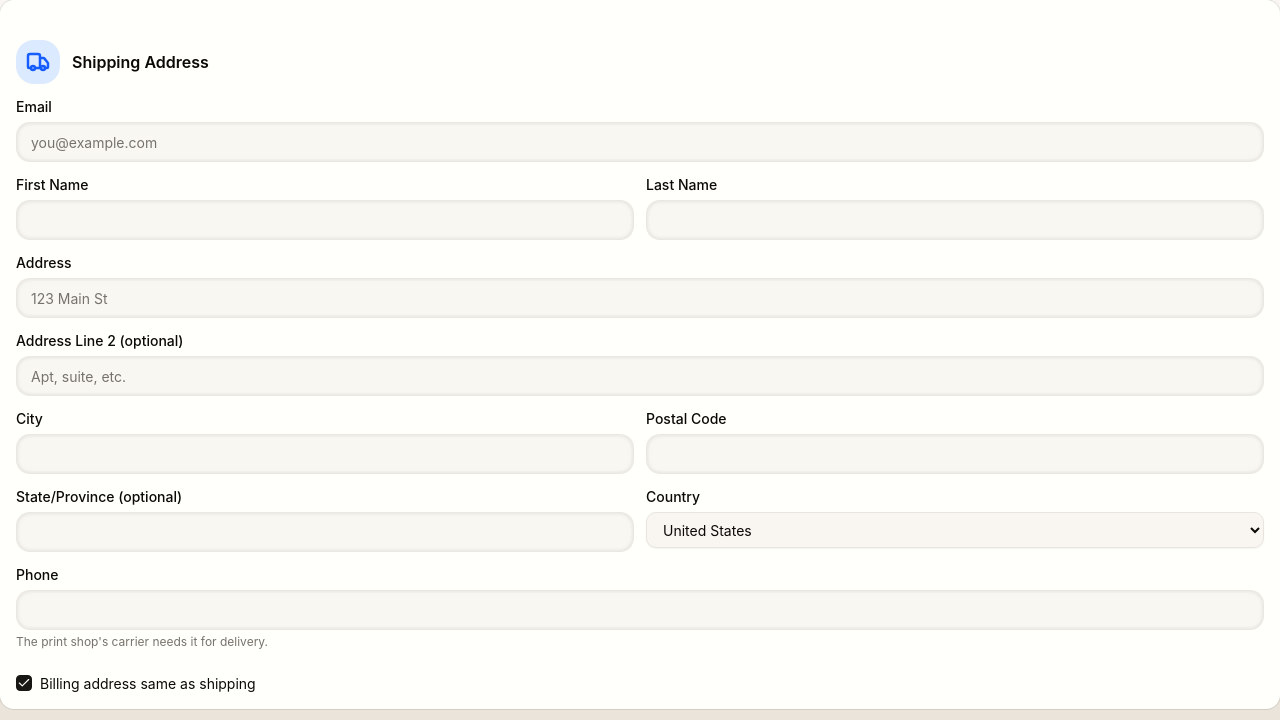
ShippingAddressForm — clipboard OTP fill › auto-fills and submits when the clipboard already holds a 6-digit code
The image size is (1280, 720).
Step 1. Type "ada@example.com" into the field labelled "Email" → (640, 142), box [16, 122, 1264, 162]
Step 2. Type "Ada" into the field labelled "First Name" → (325, 220), box [16, 200, 634, 240]
Step 3. Type "Lovelace" into the field labelled "Last Name" → (955, 220), box [646, 200, 1264, 240]
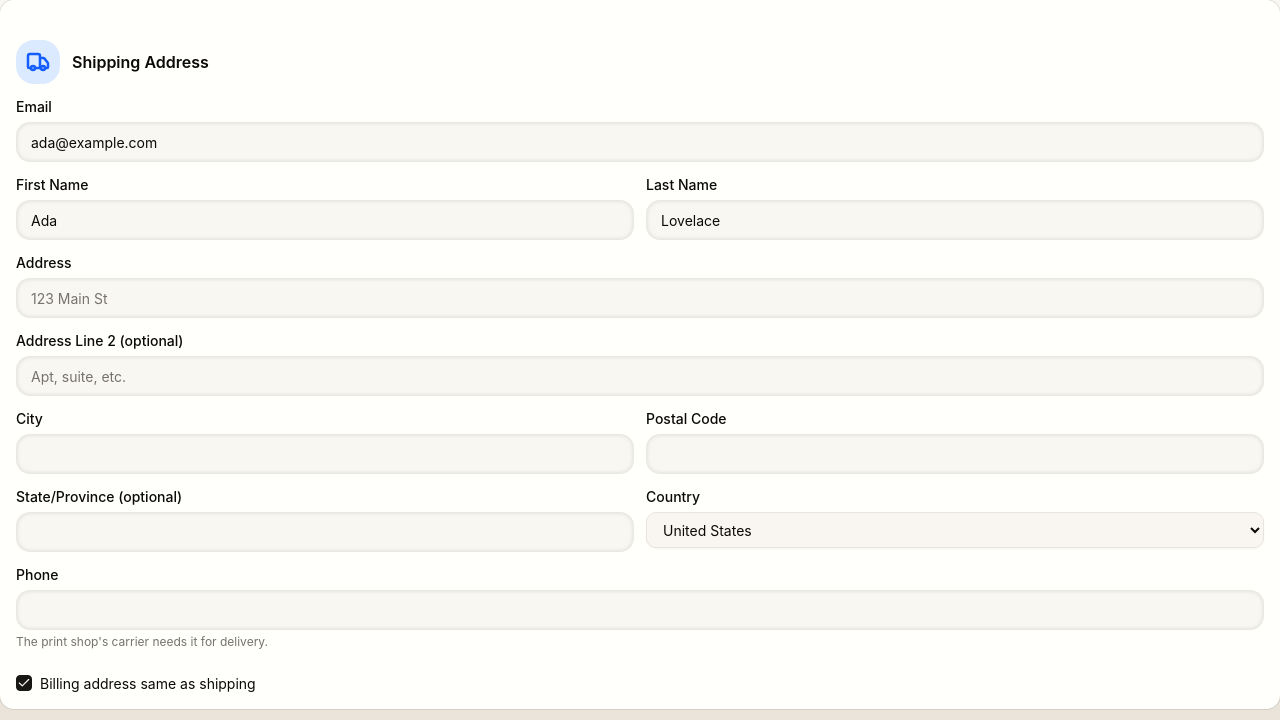
Step 4. Type "123 Main" into the field labelled "Address" → (640, 298), box [16, 278, 1264, 318]
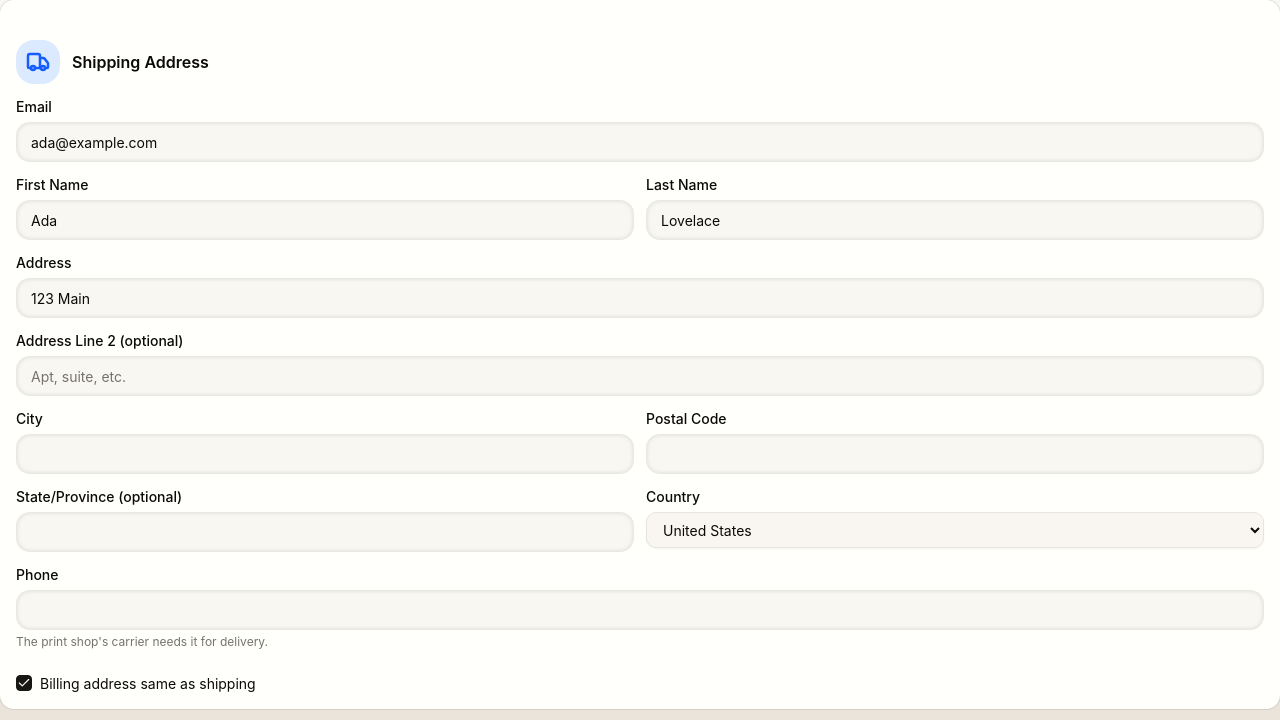
Step 5. Type "London" into the field labelled "City" → (325, 454), box [16, 434, 634, 474]
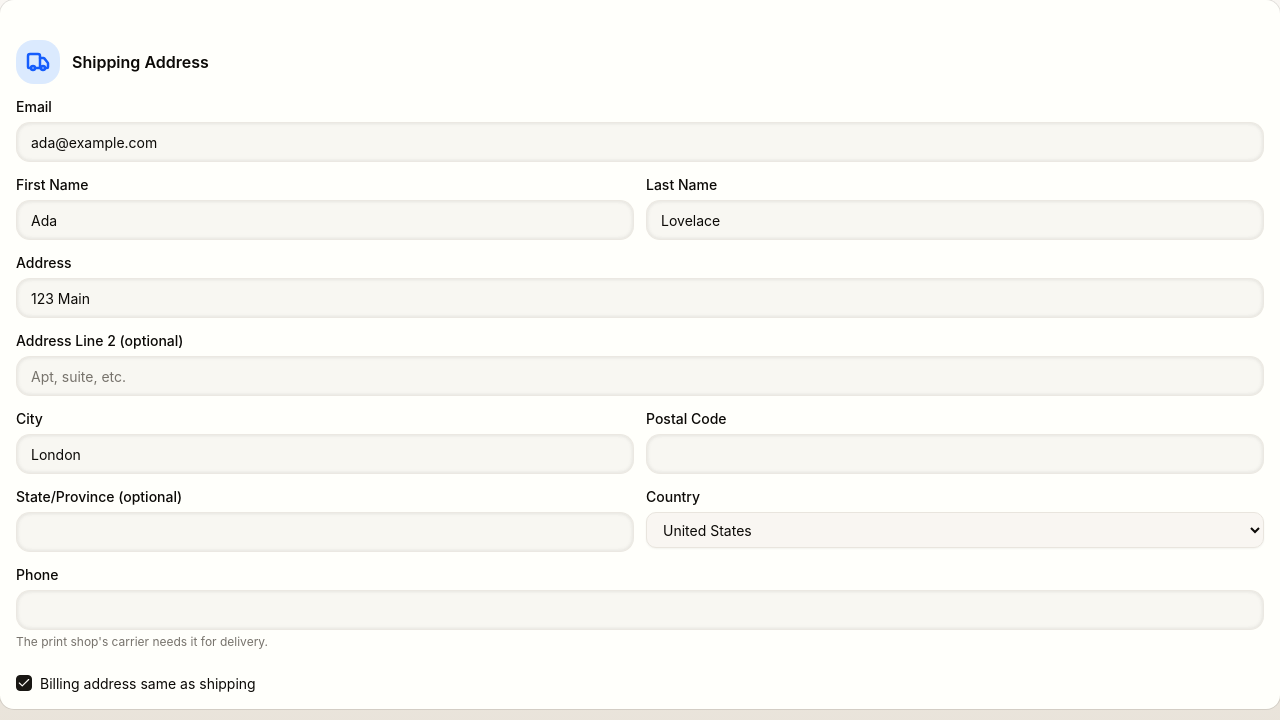
Step 6. Type "NW1 5LR" into the field labelled "Postal Code" → (955, 454), box [646, 434, 1264, 474]
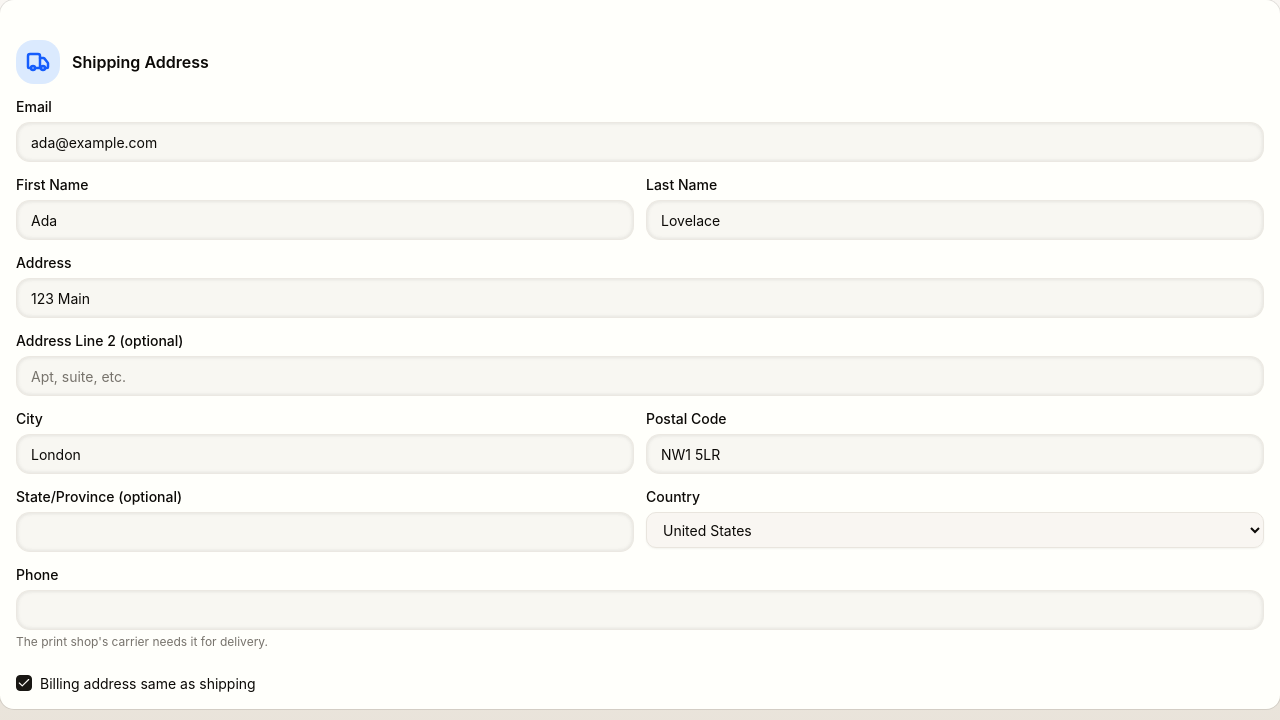
Step 7. Type "+44 20 7946 0000" into the field labelled "Phone" → (640, 610), box [16, 590, 1264, 630]
(page scrolled)
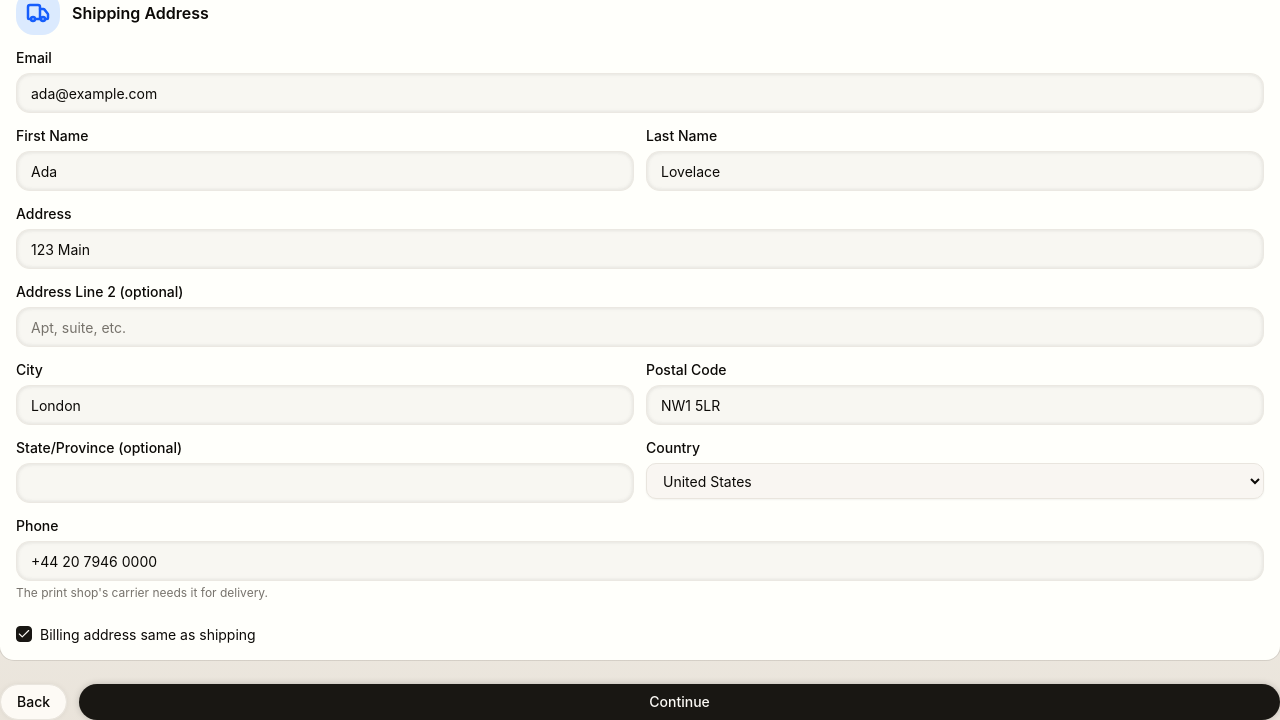
Step 8. Click the button "Continue" → (680, 702), box [79, 684, 1279, 719]
(page scrolled)
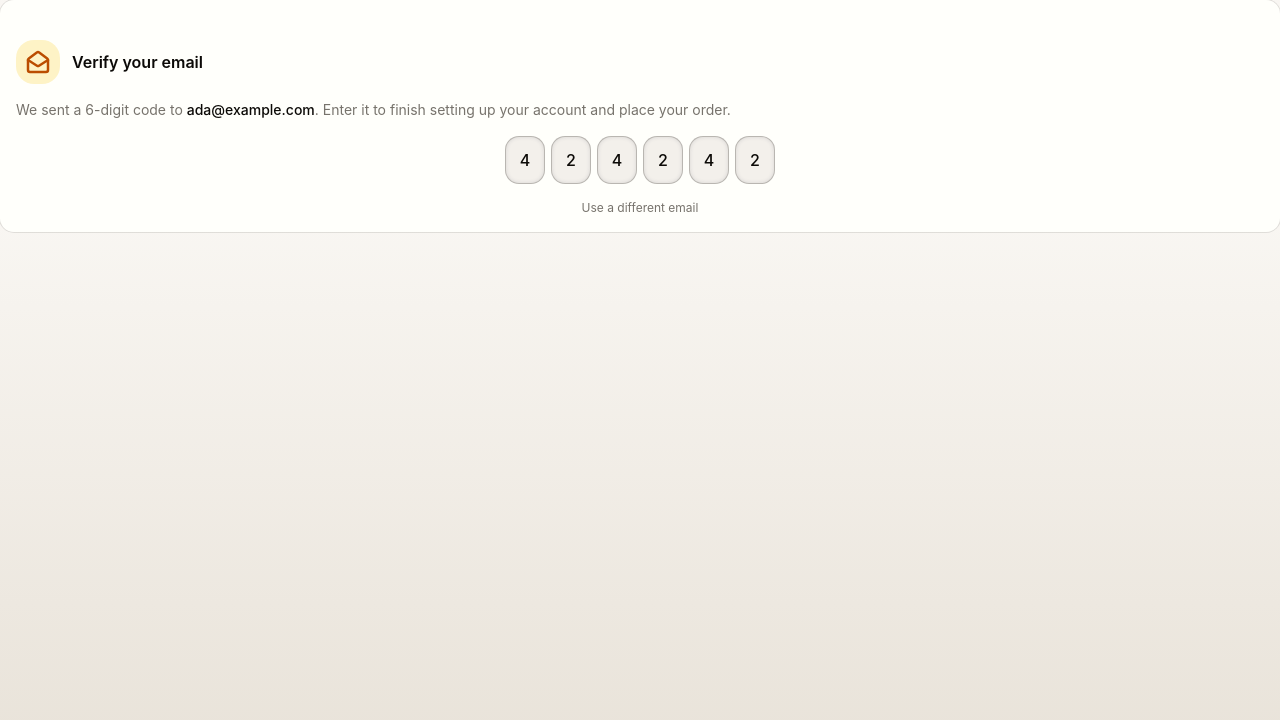
Now the heading "Verify your email" is shown, box [72, 50, 203, 74]
